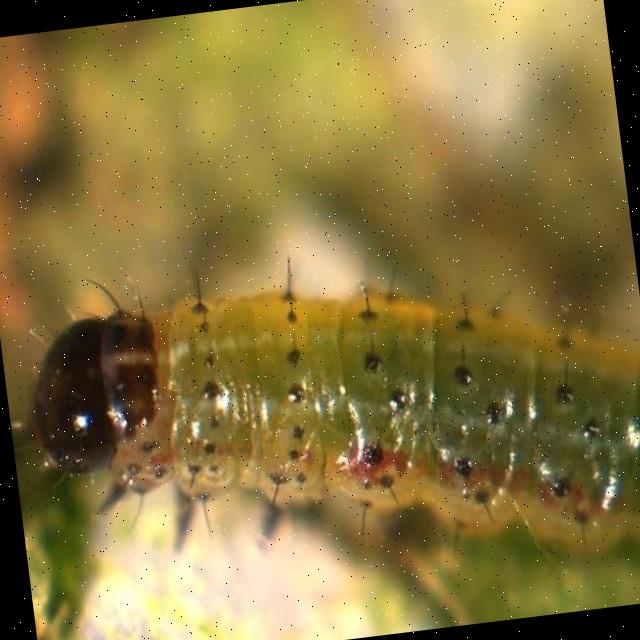worm: (10, 210, 640, 614)
